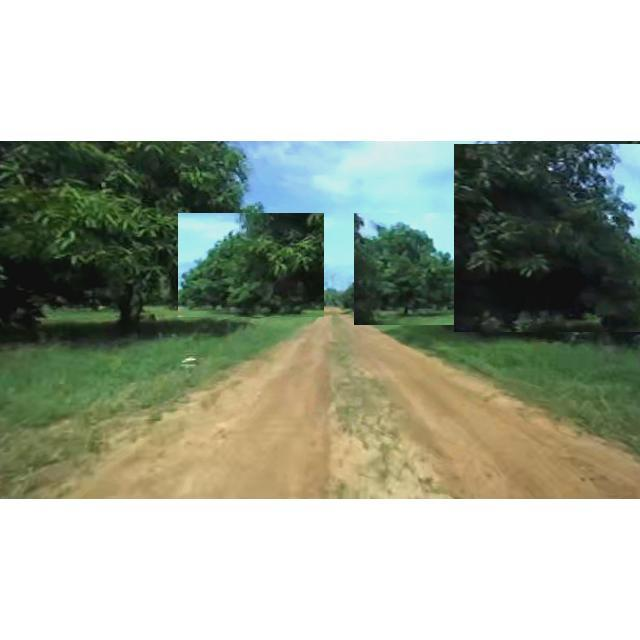tree: (0, 143, 260, 341), (454, 144, 640, 332), (178, 213, 324, 317), (354, 213, 470, 325)
